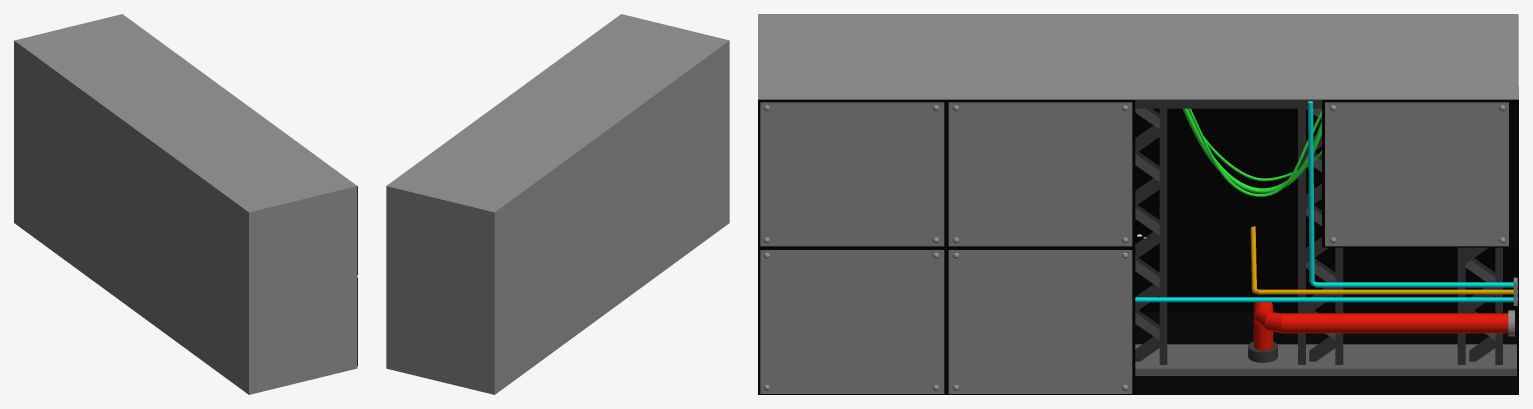
Rendered from WallModel03.fbx.
3 views of the same model, side by side, from view 1: azimuth 30°, elevation 25°; view 2: azimuth 150°, elevation 25°; view 3: azimuth 270°, elevation 25° (orthographic). The views are drawn at different scales.
Visible parts, largest first — view 1: Cube.008; view 2: Cube.008; view 3: Cube.008, Cube, Cylinder, Catenary, Cube.009.
Part boxes in pixels (box(x1,y1,x2,y2)): Cube.008: box(14, 14, 357, 394); Cube.008: box(386, 14, 729, 394); Cube.008: box(758, 14, 1518, 394); Cube: box(1135, 108, 1516, 375); Cylinder: box(1135, 101, 1517, 350); Catenary: box(1183, 108, 1321, 196); Cube.009: box(1135, 100, 1321, 108).
Bounding box in the file's own units: 3822 × 6000 × 14007.
